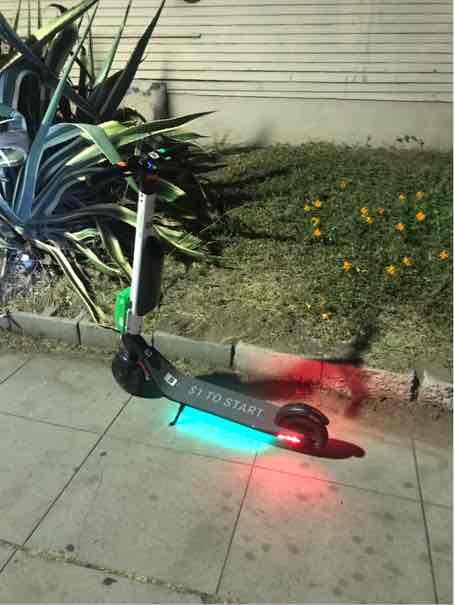scooter: (84, 116, 344, 466)
